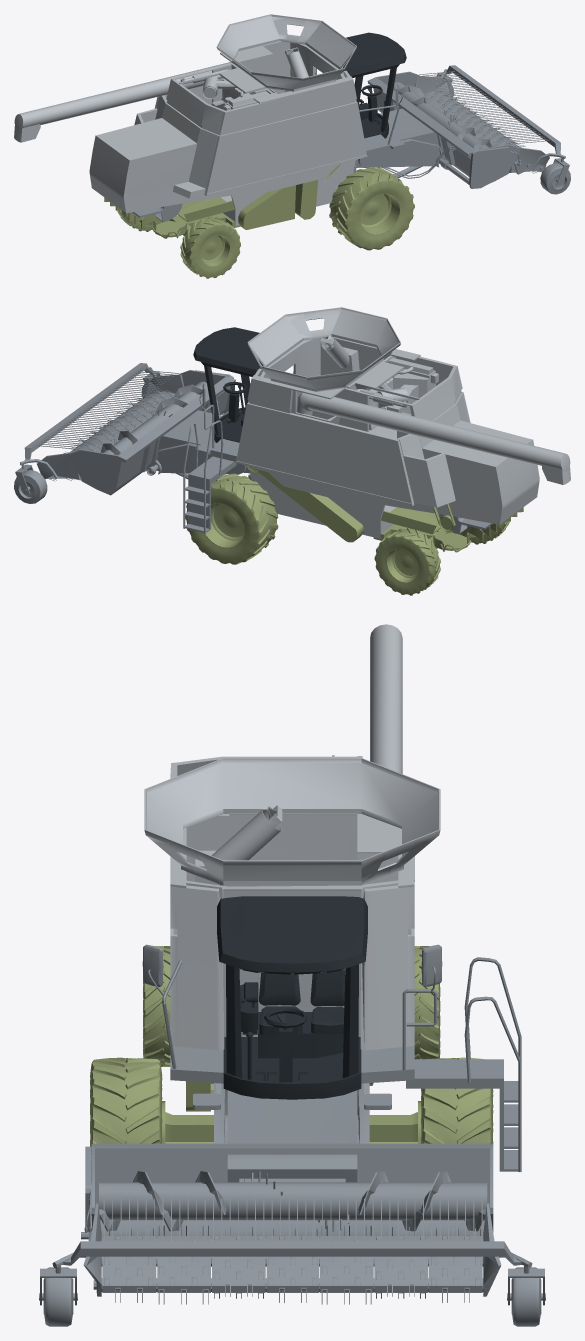
File: combine.glb
3 views of the same model, one above another, from view 1: azimuth 30°, elevation 25°; view 2: azimuth 150°, elevation 25°; view 3: azimuth 270°, elevation 25° (orthographic). The views are drawn at different scales.
Visible parts, largest first — view 1: body; view 2: body; view 3: body.
Boxes of the visible parts, left/top/right/bottom form: body: left=14, top=14, right=570, bottom=278; body: left=14, top=307, right=570, bottom=595; body: left=39, top=624, right=545, bottom=1326.
Size of the model in its own units: 10.88 by 4 by 5.08.
